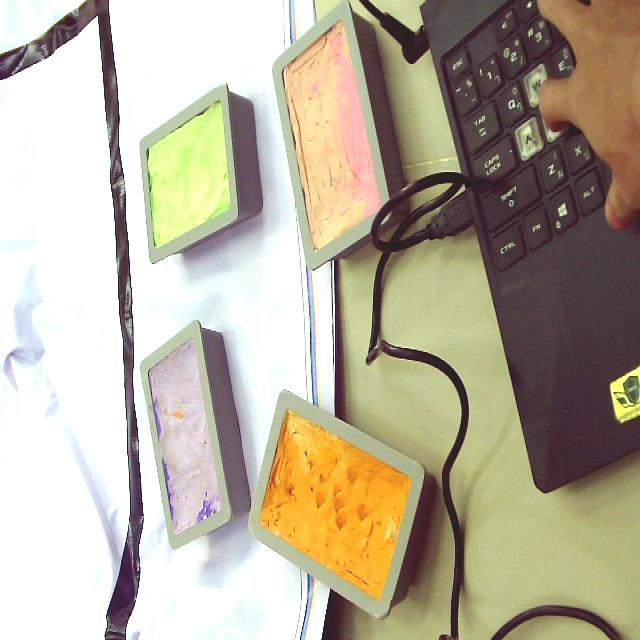block: (250, 389, 433, 620), (271, 2, 408, 270), (138, 318, 252, 548), (138, 83, 262, 265)
